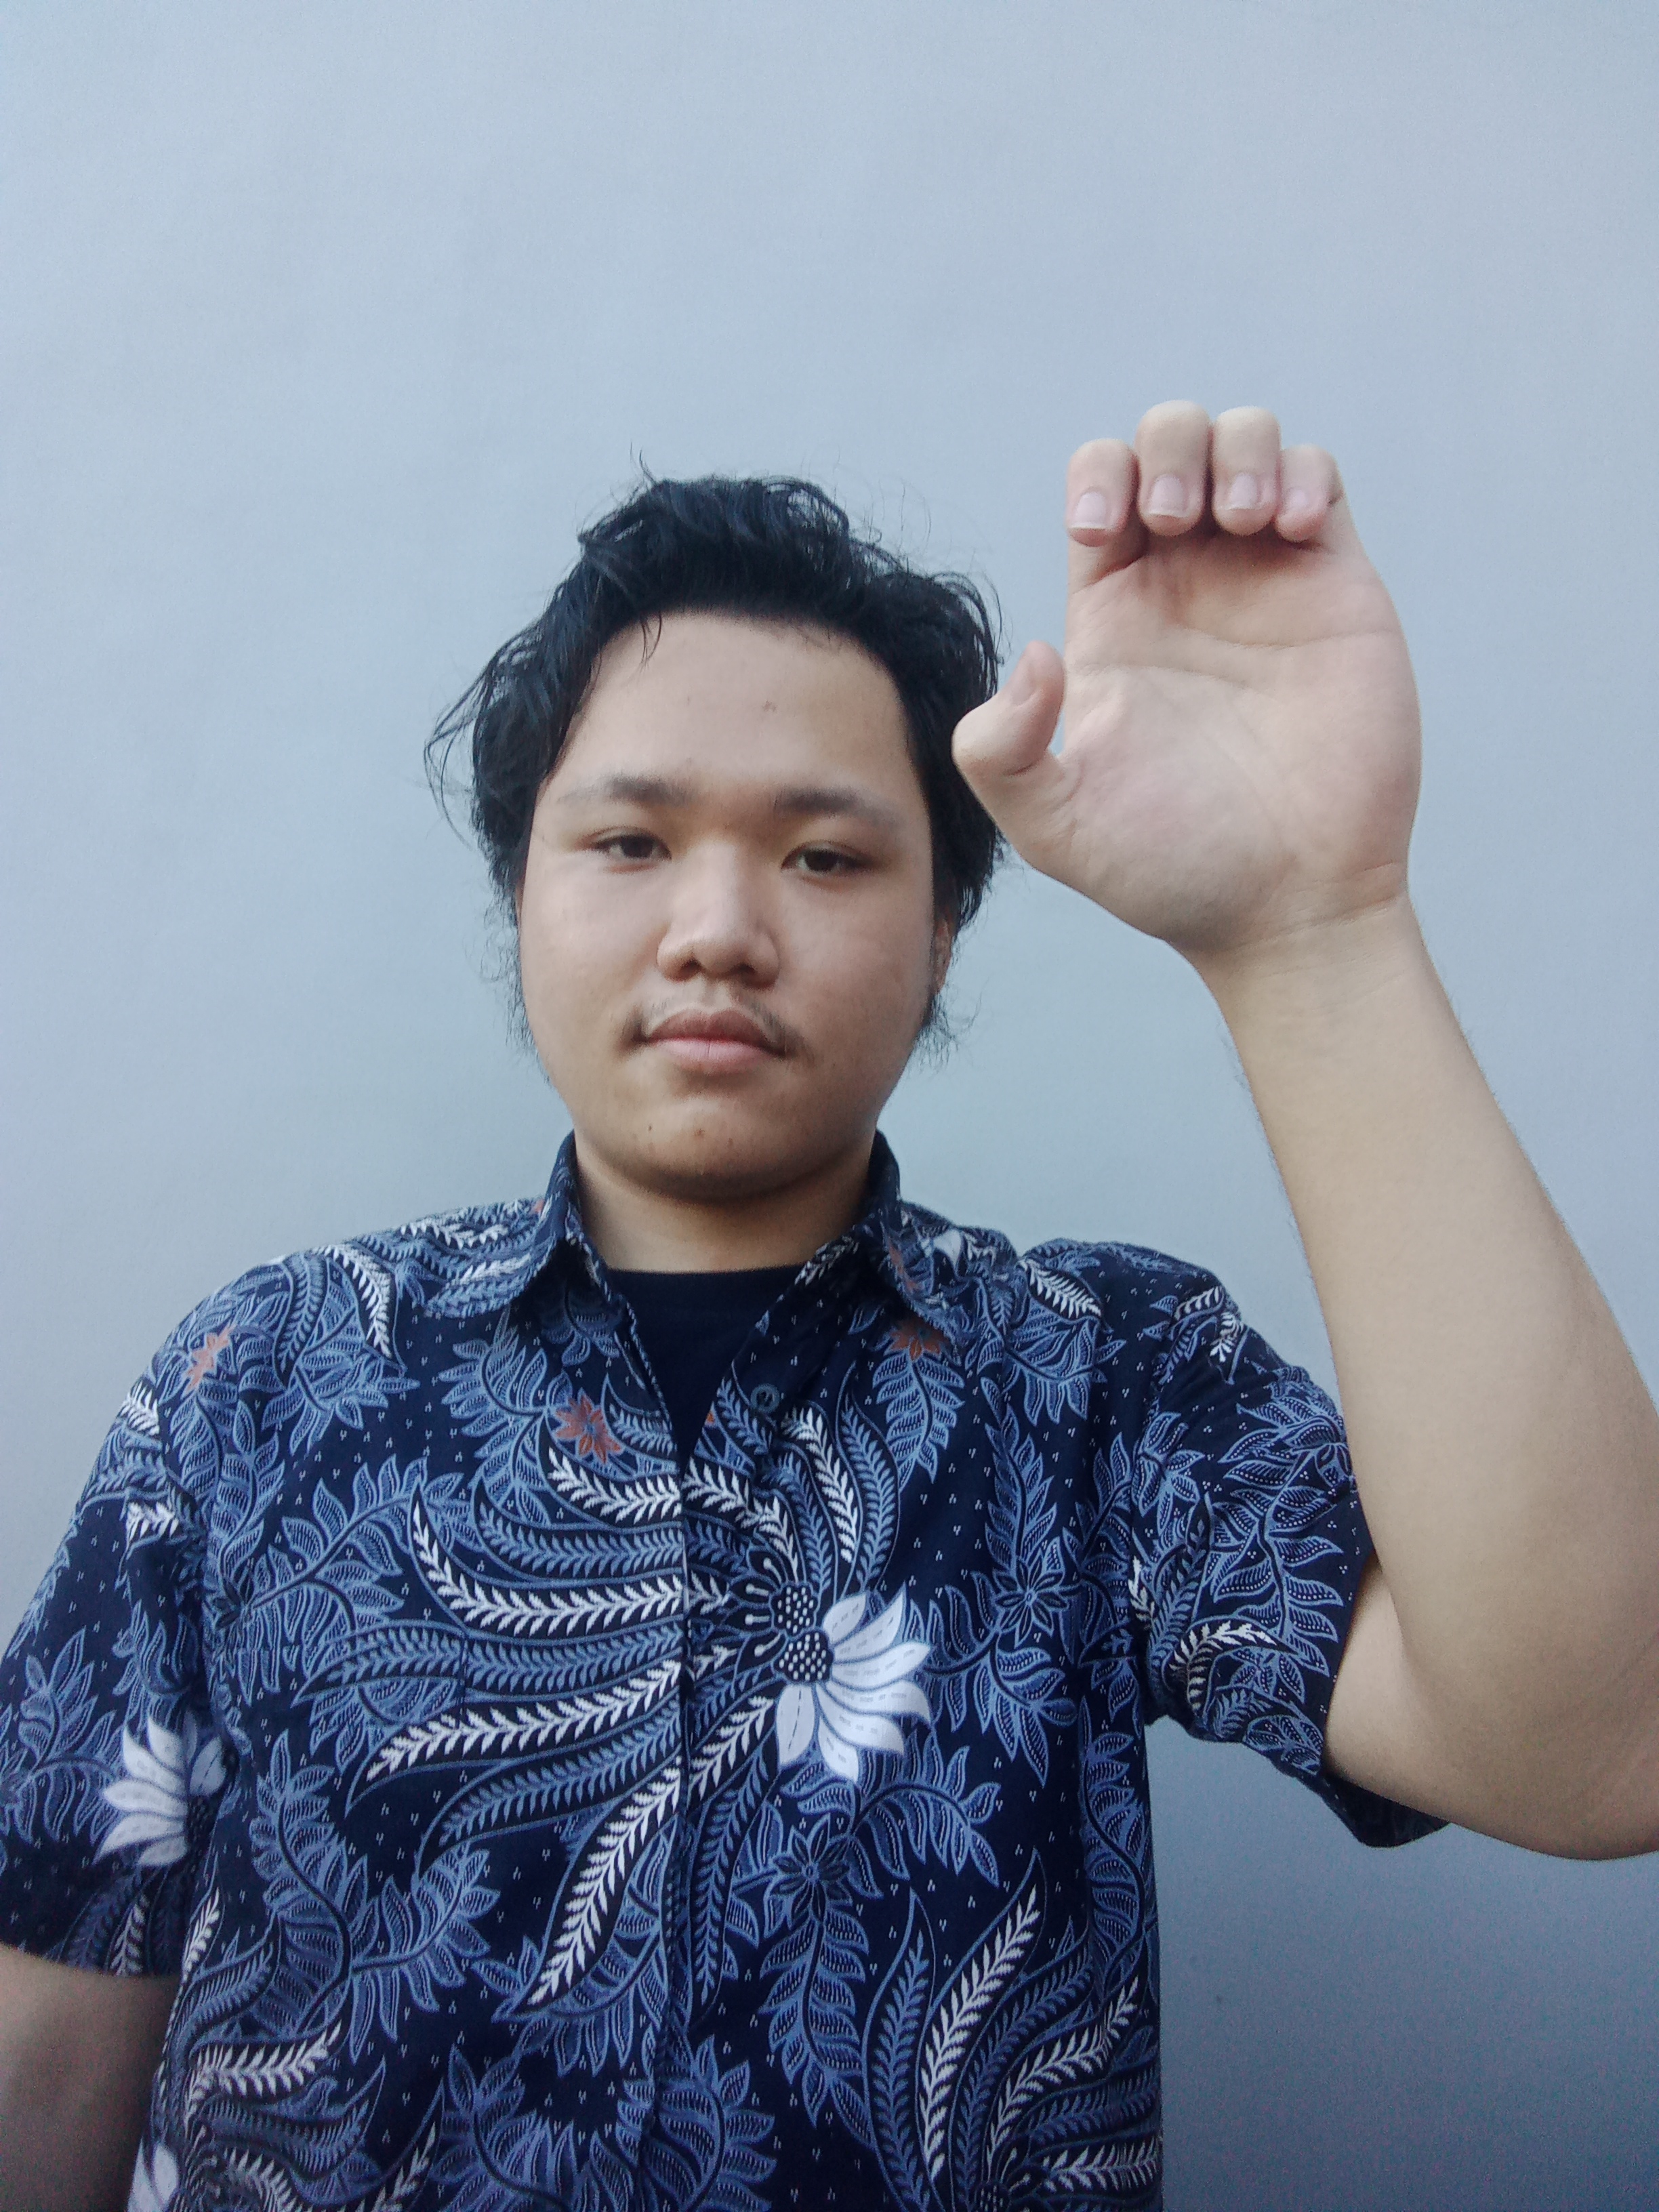E: (939, 361, 1476, 989)
